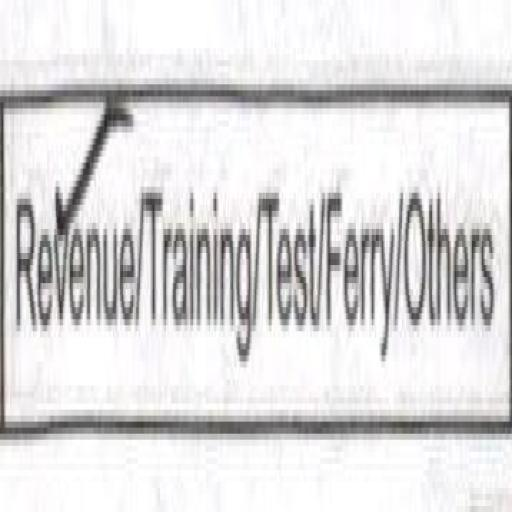check: (8, 73, 140, 411)
